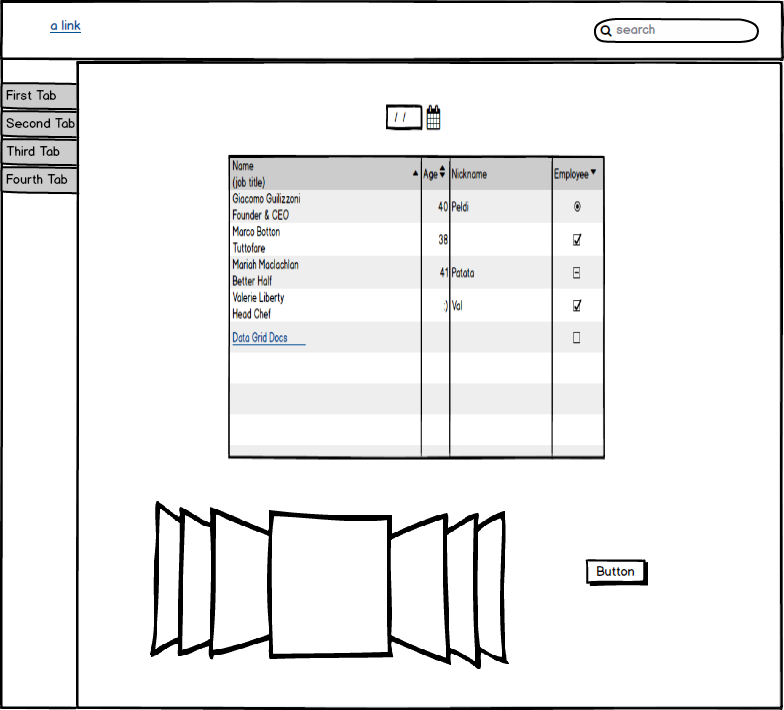button: (580, 550, 654, 593)
date_picker: (379, 97, 446, 137)
navlink: (44, 17, 90, 40)
search: (588, 13, 764, 48)
sidebar: (1, 73, 82, 203)
slideshow: (141, 495, 513, 675)
table: (217, 151, 616, 468)
